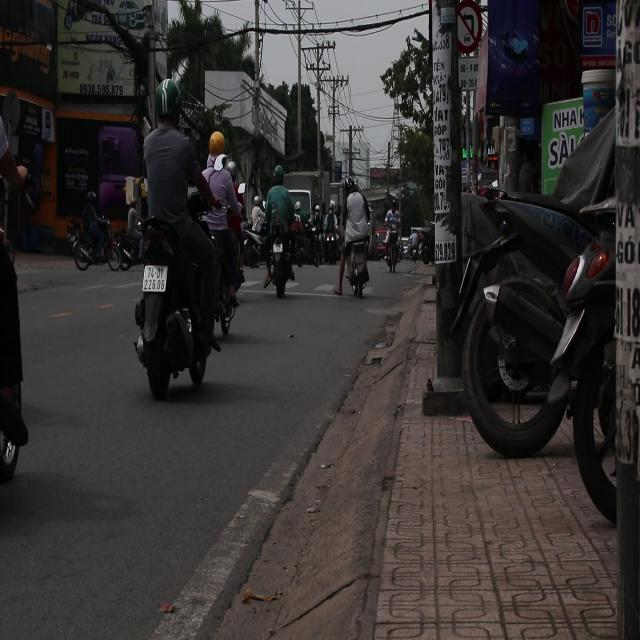motorbike: (131, 211, 230, 397), (46, 206, 120, 286), (202, 205, 240, 331), (105, 208, 158, 288), (334, 226, 378, 316), (260, 230, 298, 301), (238, 206, 268, 279), (320, 212, 339, 288), (384, 209, 399, 292)
